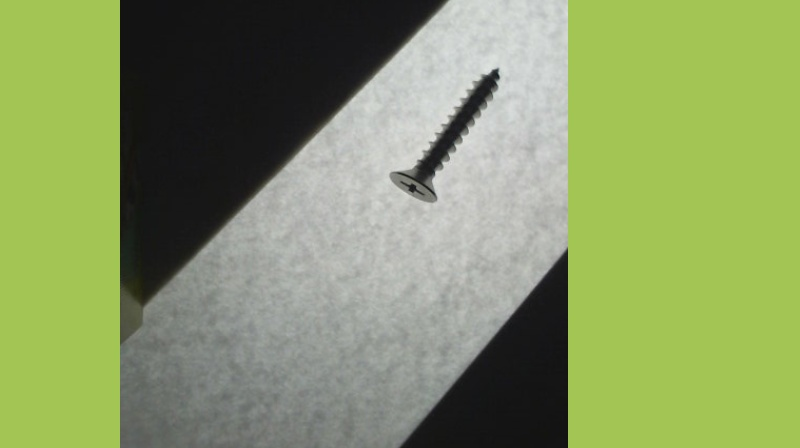S001: (386, 66, 504, 206)
